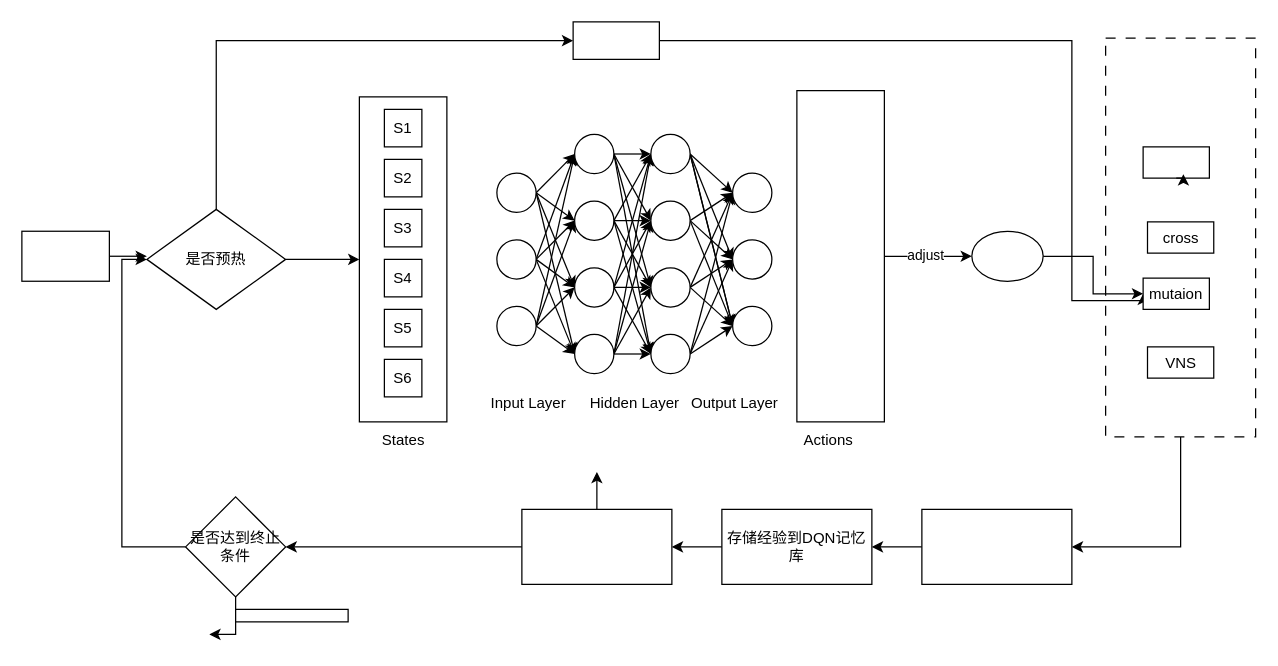
Some shapes in this 1278 by 666 pixel diagram are drawn without their labels. The shapes that lost their labels are listed below. From the top down, each one's centre as x and y in pixels, then its label:
At point 615,40: "Mu = 0.2".
At point 1175,162: "select".
At point 65,255: "init DQN".
At point 1007,255: "Mu".
At point 596,546: "训练DQN".
At point 996,546: "新解：计算DQN奖励".
